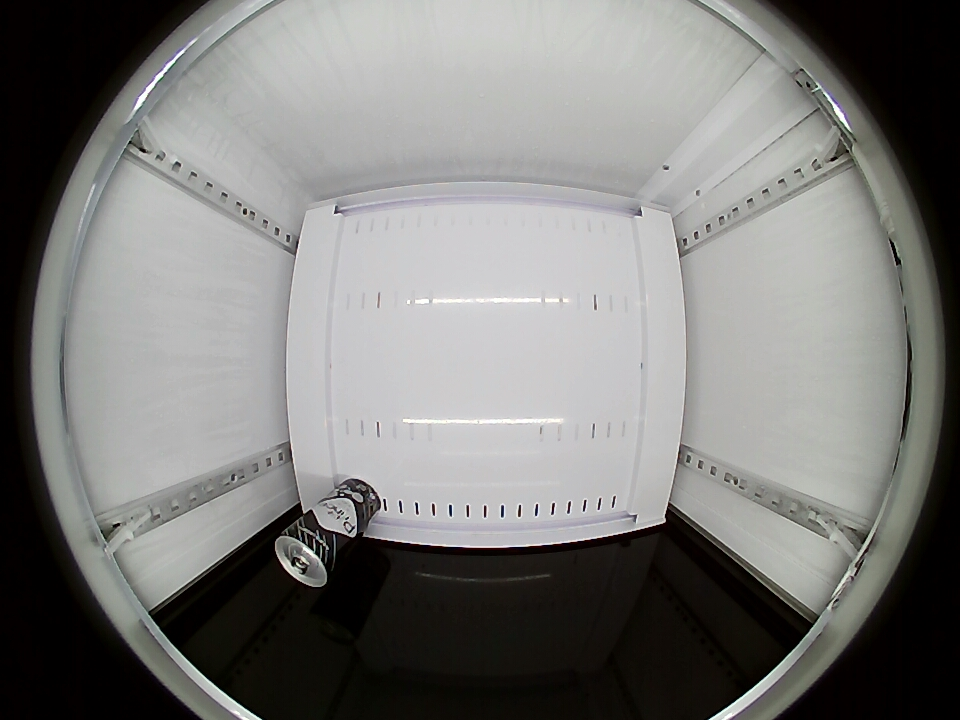qingdaowangzi-1: (274, 524, 339, 587)
